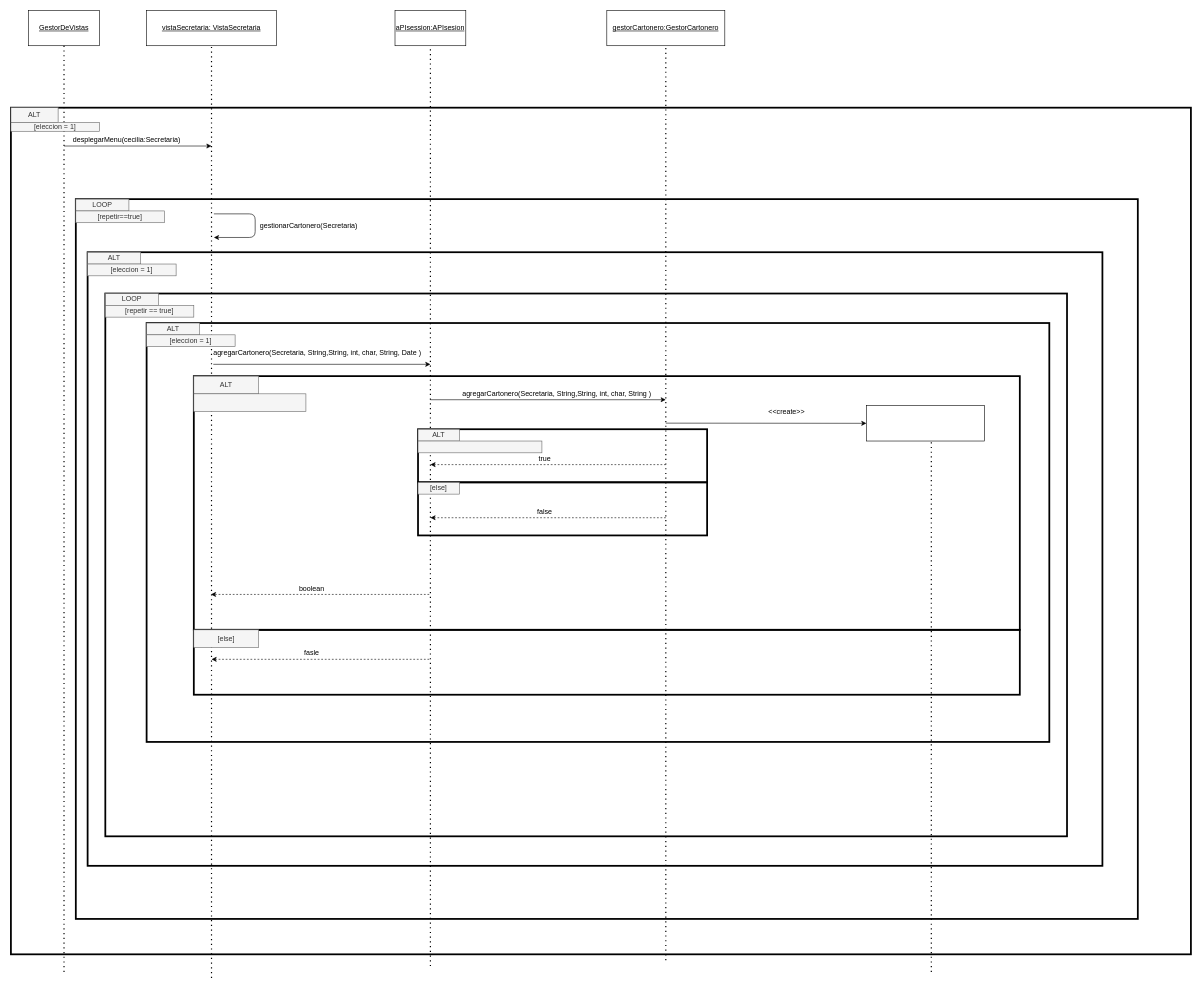
Some shapes in this 1202 by 989 pixel diagram are drawn without their labels. Each missing label, with the centre of its shape:
"[secretaria.isEstadoLogin()==true]" belongs at (x=249, y=402).
"listaCartonero.contains()==false" belongs at (x=479, y=446).
"nuevoCartonero:Cartonero" belongs at (x=925, y=423).
